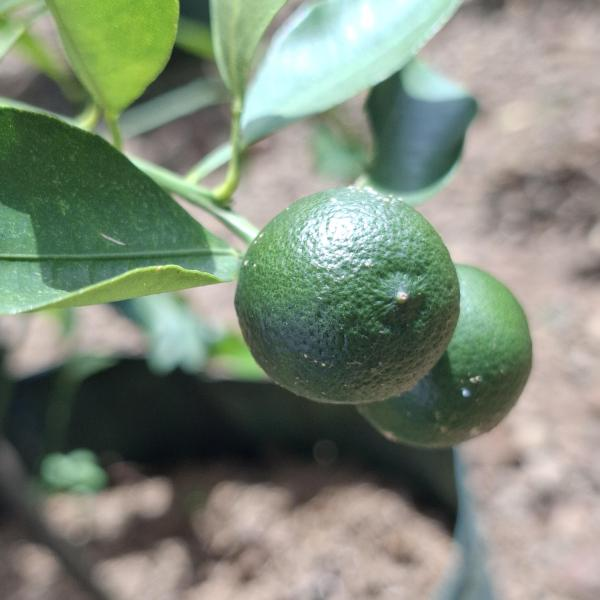Scab: (223, 184, 464, 410), (346, 254, 536, 458)
